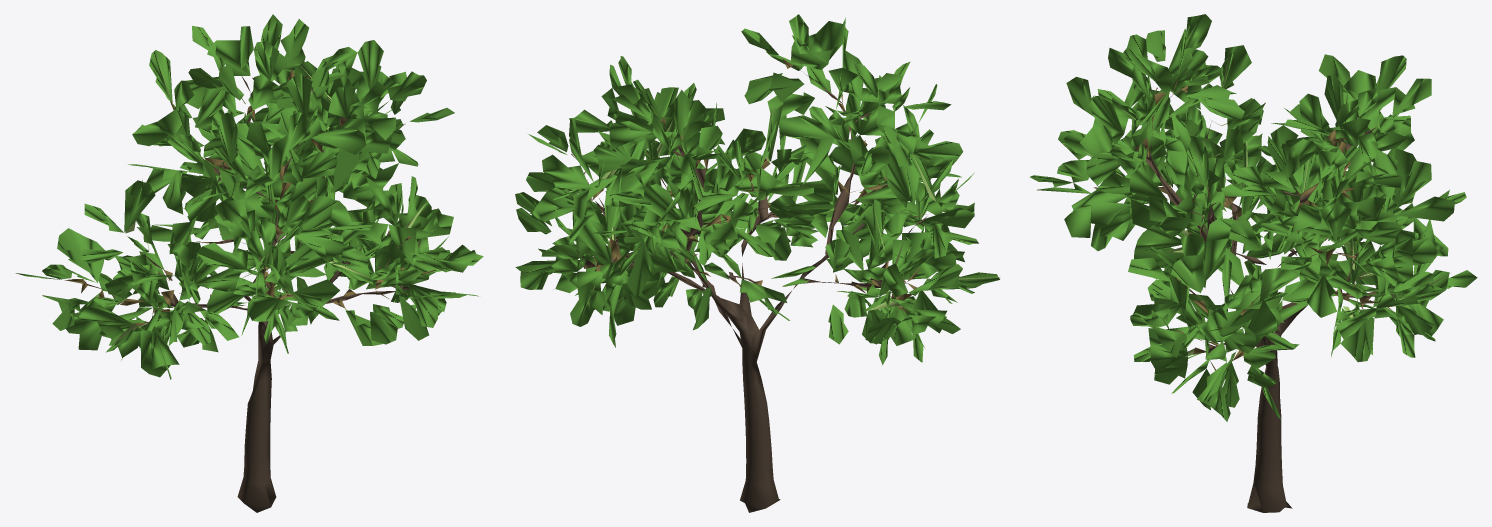
File: 1_2_mid.glb
3 renders of one model, left to right at view 1: azimuth 30°, elevation 25°; view 2: azimuth 150°, elevation 25°; view 3: azimuth 270°, elevation 25°, orthographic. The views are drawn at different scales.
Visible parts, largest first — view 1: body; view 2: body; view 3: body.
Part boxes in pixels (box(x1,y1,x2,y2)): body: box(15, 14, 483, 512); body: box(515, 14, 1000, 512); body: box(1030, 14, 1477, 512).
Size of the model in its own units: 3.54 by 3.76 by 3.18.
Materials: 1 (1 with a texture image).
